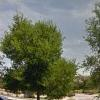Tree: (7, 10, 72, 92)
